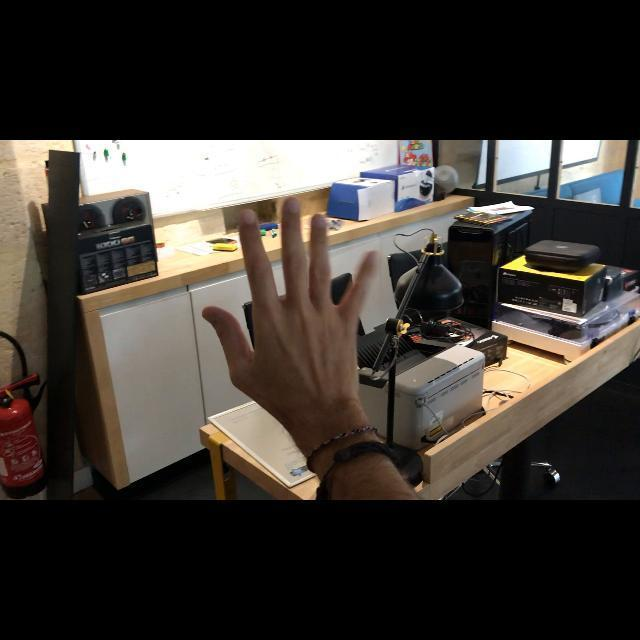bare_hand: (201, 194, 379, 418)
